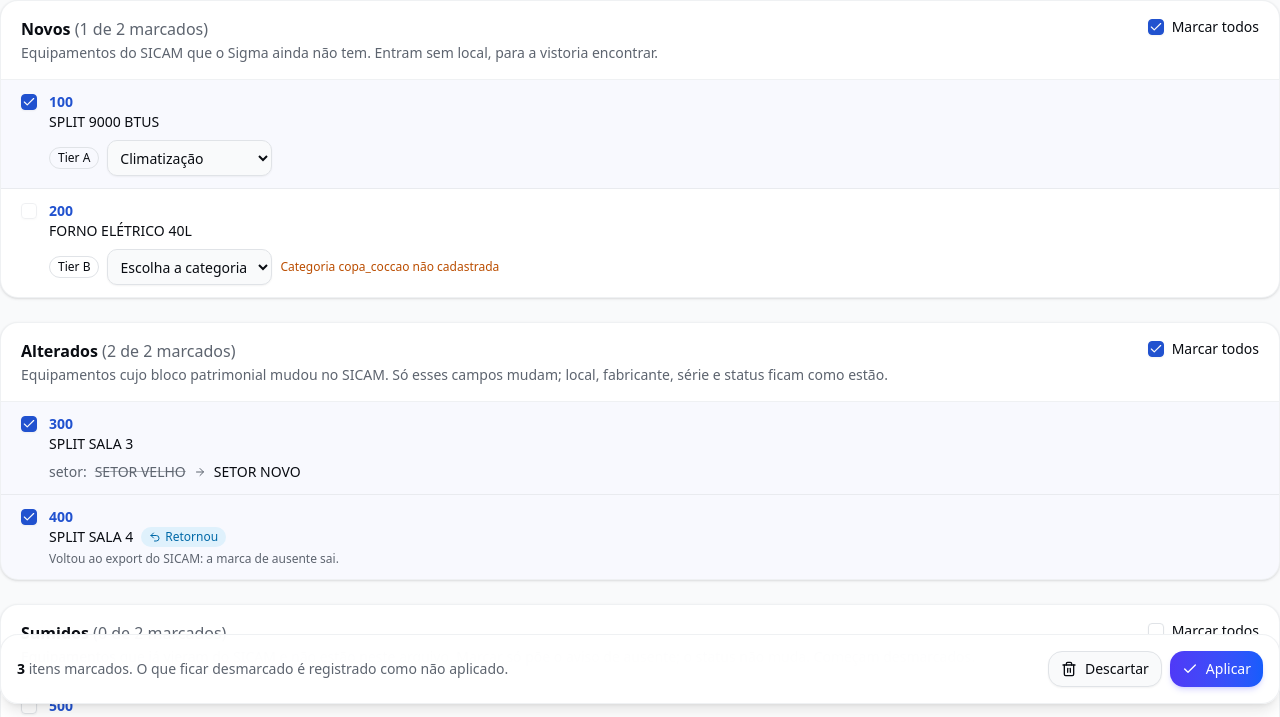
Test: RevisaoImportacao: seleção › a contagem do rodapé acompanha a seleção
expect the text "itens marcados" shows "3 itens marcados": met, box x1=17 y1=659 x2=508 y2=679
Click the checkbox named "Marcar 500" at (29, 706), box x1=21 y1=698 x2=37 y2=714
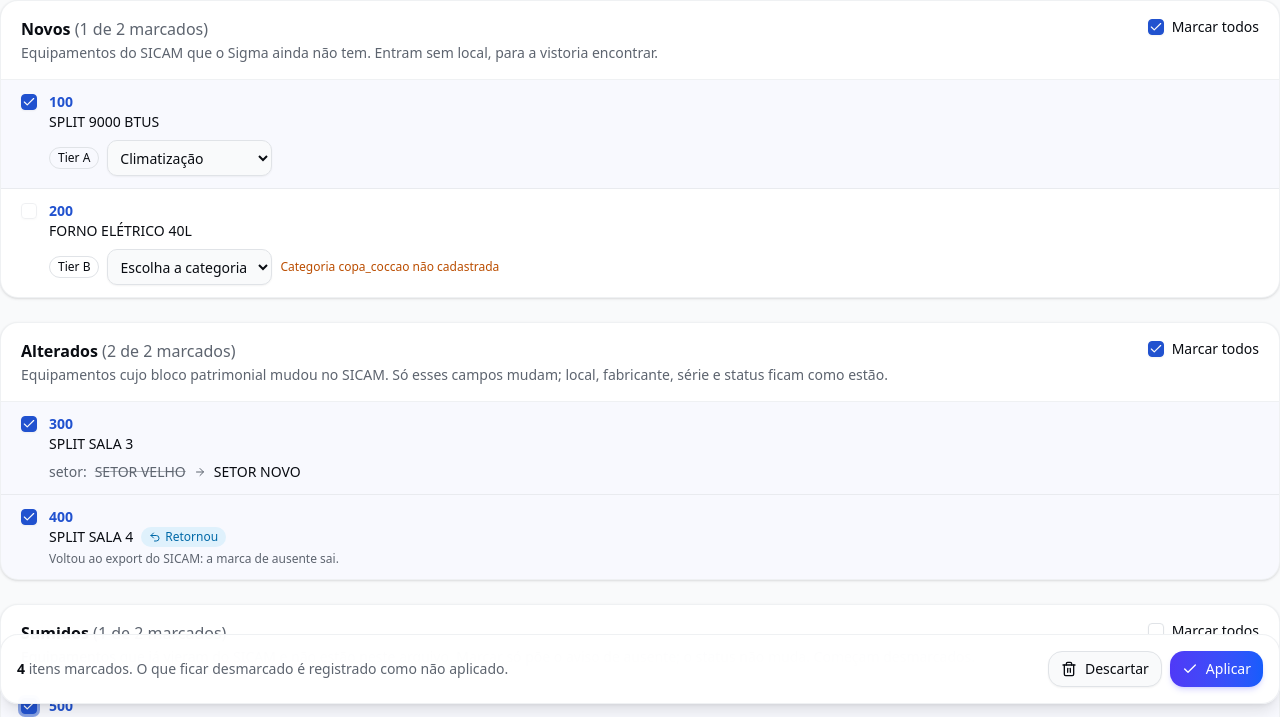
expect the text "itens marcados" shows "4 itens marcados": met, box x1=17 y1=659 x2=508 y2=679
